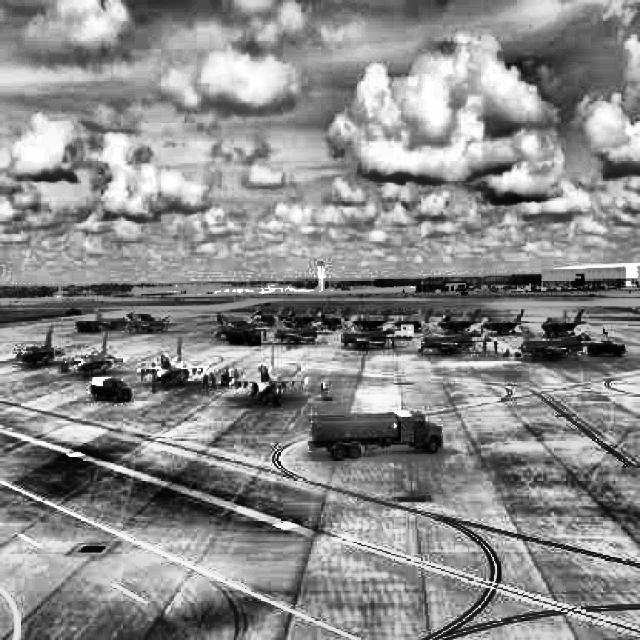F16: (228, 342, 308, 406), (137, 336, 209, 390), (518, 322, 605, 361), (64, 330, 130, 378), (417, 320, 495, 355), (11, 326, 72, 368), (338, 318, 407, 350), (272, 316, 334, 344), (216, 312, 273, 336), (130, 309, 178, 334), (93, 308, 133, 330)
F35: (482, 309, 530, 337), (542, 310, 589, 338), (437, 309, 483, 336), (393, 308, 438, 330), (352, 310, 396, 332), (250, 305, 290, 327), (315, 307, 353, 330), (285, 306, 320, 328)
